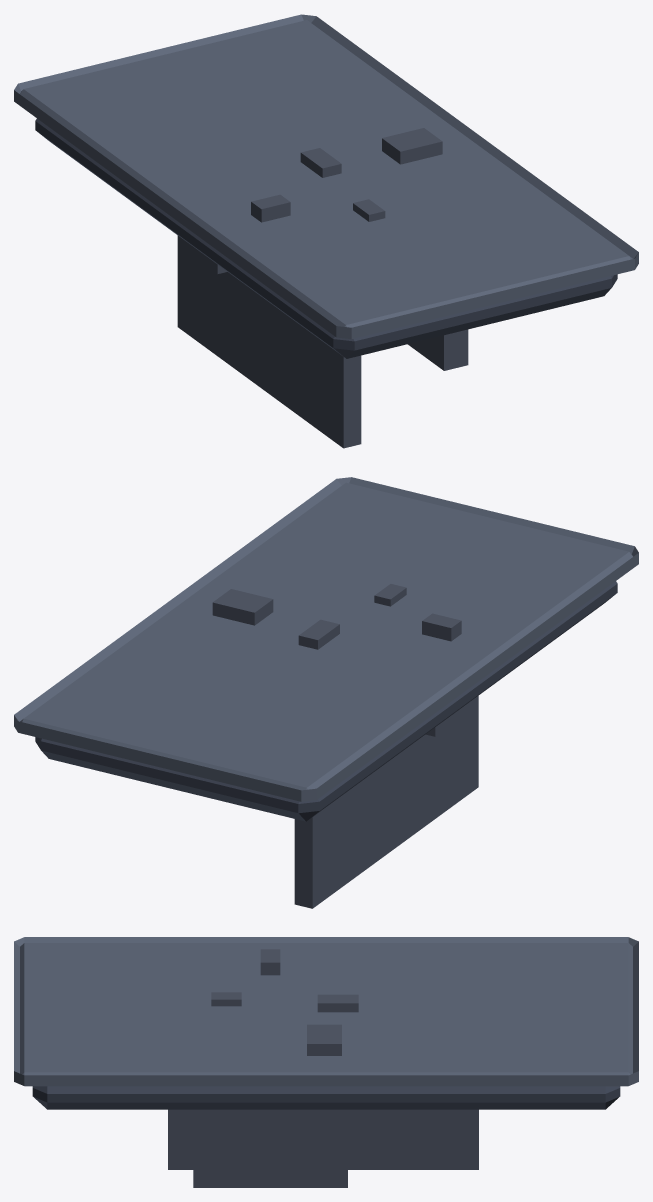
File: platform_ledge.glb
The picture shows the model from 3 angles, top to bottom: view 1: azimuth 30°, elevation 25°; view 2: azimuth 150°, elevation 25°; view 3: azimuth 270°, elevation 25°; orthographic projection. The views are drawn at different scales.
Visible parts, largest first — view 1: platform_ledge; view 2: platform_ledge; view 3: platform_ledge.
Part boxes in pixels (box(x1,y1,x2,y2)): platform_ledge: box(14, 14, 638, 448); platform_ledge: box(14, 477, 638, 908); platform_ledge: box(14, 937, 638, 1187).
Size of the model in its own units: 2.2 by 1.47 by 4.2.
